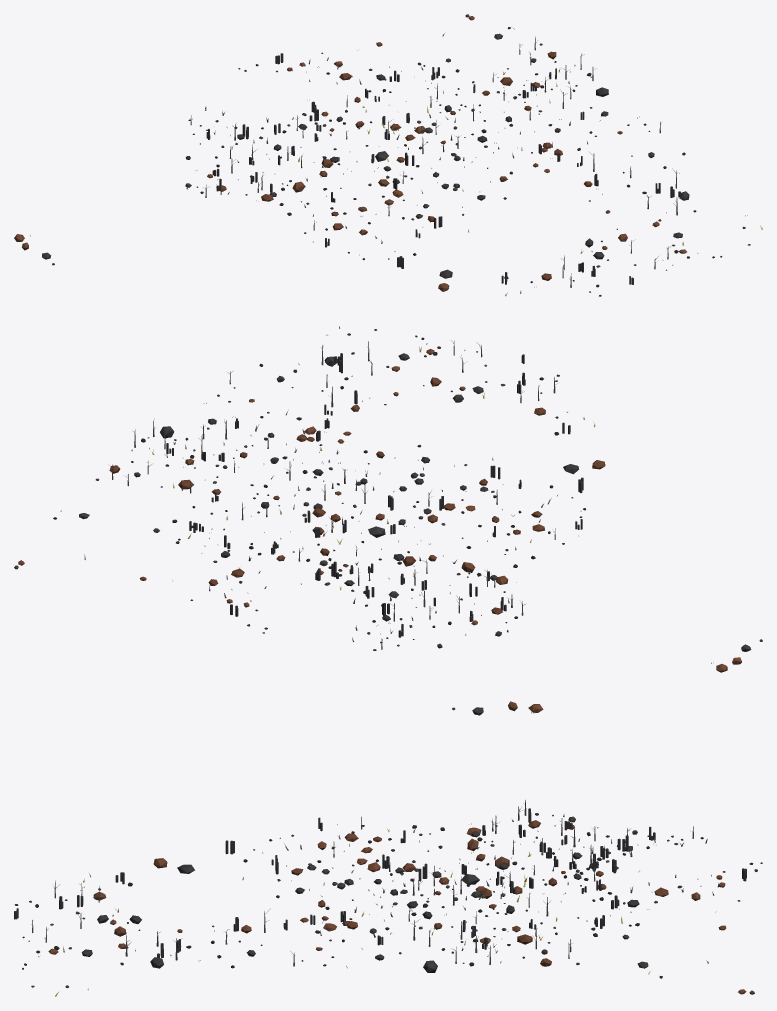
The model's file is ash_land_scatter_c14_29_lod1.glb.
The picture shows the model from 3 angles, top to bottom: view 1: azimuth 30°, elevation 25°; view 2: azimuth 150°, elevation 25°; view 3: azimuth 270°, elevation 25°; orthographic projection. The views are drawn at different scales.
Visible parts, largest first — view 1: ash_land_scatter_c14_29_lod1; view 2: ash_land_scatter_c14_29_lod1; view 3: ash_land_scatter_c14_29_lod1.
Boxes of the visible parts, <box> form: ash_land_scatter_c14_29_lod1: <box>14,14,762,296</box>; ash_land_scatter_c14_29_lod1: <box>14,326,762,672</box>; ash_land_scatter_c14_29_lod1: <box>14,701,762,996</box>.
Size of the model in its own units: 259 by 32.05 by 254.
